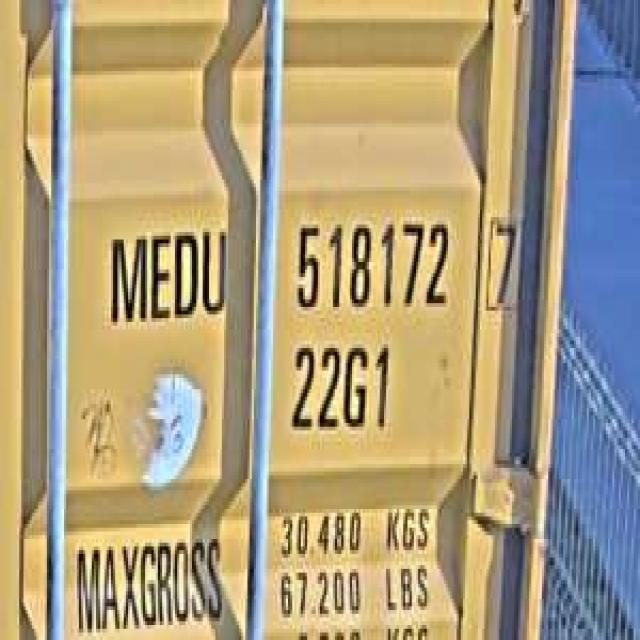dv: (482, 206, 523, 326)
owner: (102, 217, 230, 333)
serial: (288, 206, 454, 322)
size: (284, 333, 394, 442)
